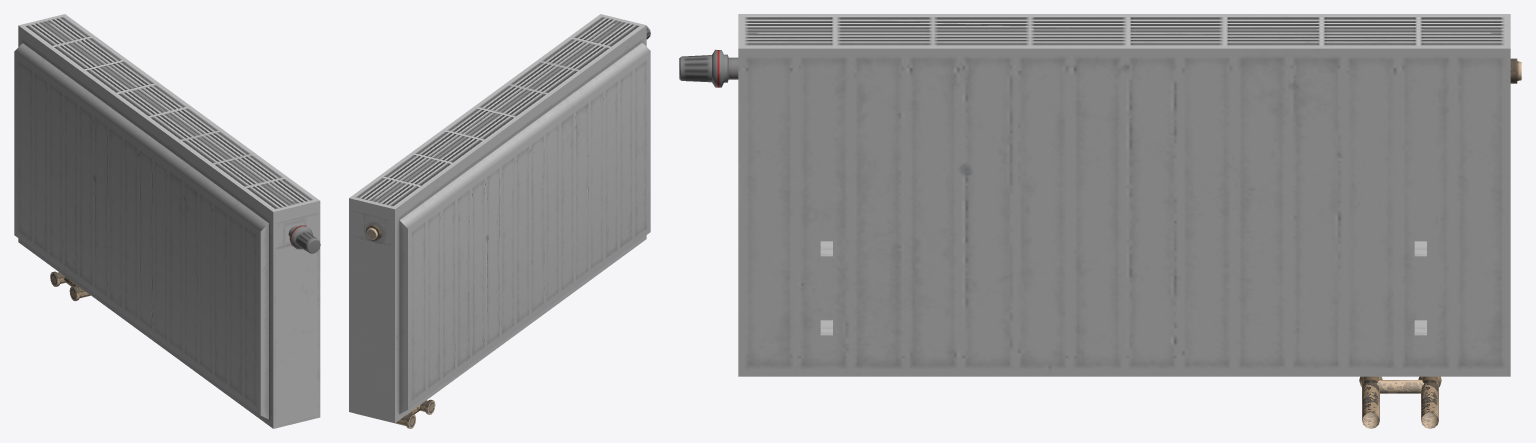
Rendered from HH_Radiator_Big.fbx.
The picture shows the model from 3 angles, left to right: view 1: azimuth 30°, elevation 25°; view 2: azimuth 150°, elevation 25°; view 3: azimuth 270°, elevation 25°; orthographic projection. The views are drawn at different scales.
Parts seen in each view (by area): view 1: HH_Radiator_Big_LOD0; view 2: HH_Radiator_Big_LOD0; view 3: HH_Radiator_Big_LOD0.
Part boxes in pixels (x1,y1,x2,y2): HH_Radiator_Big_LOD0: (14, 14, 320, 428); HH_Radiator_Big_LOD0: (349, 14, 650, 428); HH_Radiator_Big_LOD0: (679, 14, 1521, 428).
Size of what is drawn, in the model's own units: 22.57 by 69.54 by 144.
